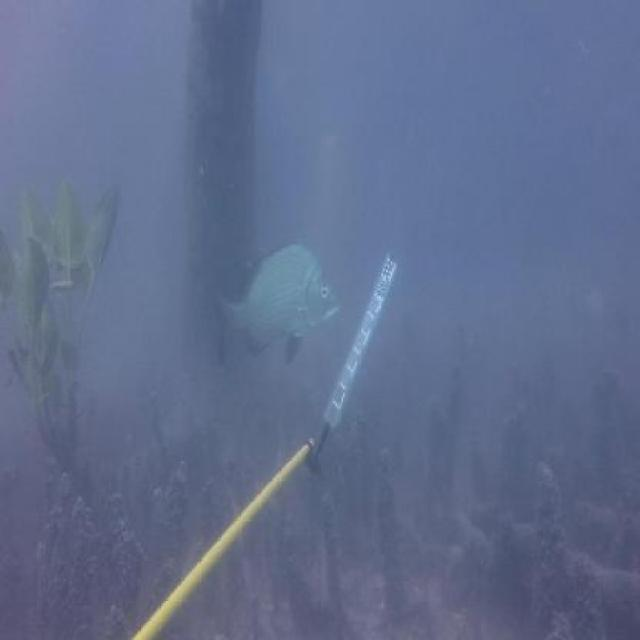acanthopagrus_palmaris: (212, 238, 348, 371)
